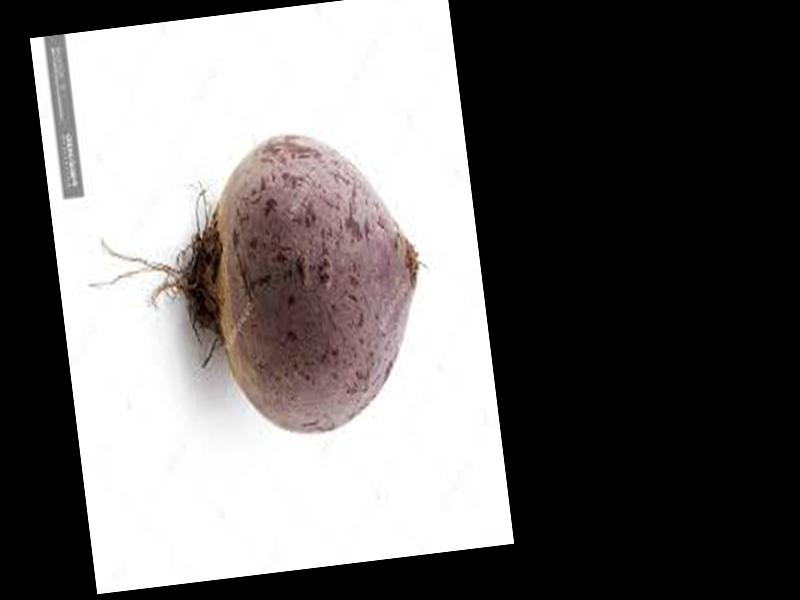Beet: (72, 117, 440, 459)
